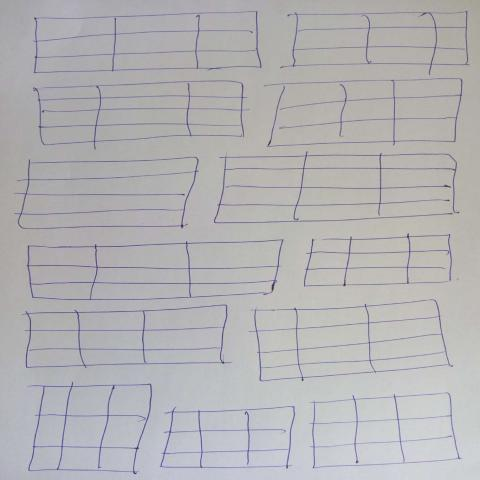Table: (215, 152, 460, 224), (249, 300, 454, 382), (27, 240, 284, 301), (34, 81, 251, 150), (34, 12, 263, 74), (259, 79, 463, 148), (21, 305, 234, 369), (15, 158, 201, 230), (280, 12, 470, 76), (309, 393, 463, 469), (28, 383, 152, 475), (160, 407, 296, 470), (305, 234, 453, 288)
